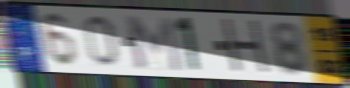0: (82, 14, 123, 70)
1: (172, 15, 203, 75)
6: (40, 11, 79, 69)
8: (268, 19, 312, 79)
H: (219, 17, 274, 78)
M: (122, 13, 185, 74)
